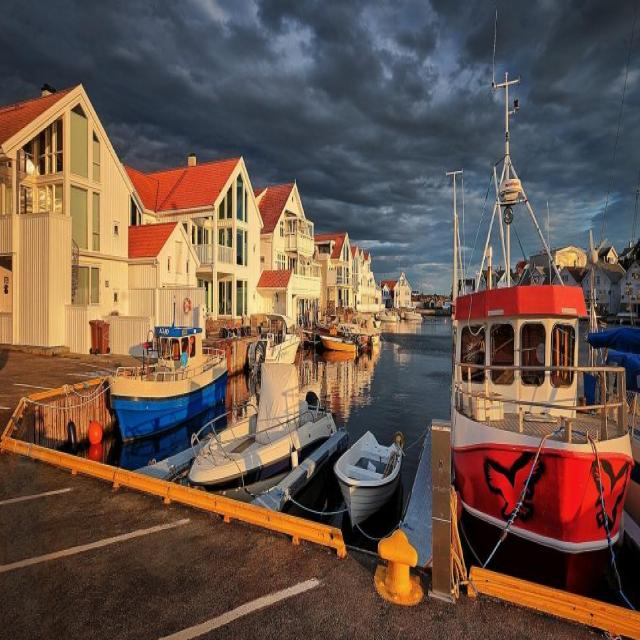houseboat: (458, 298, 640, 555), (115, 327, 232, 445)
